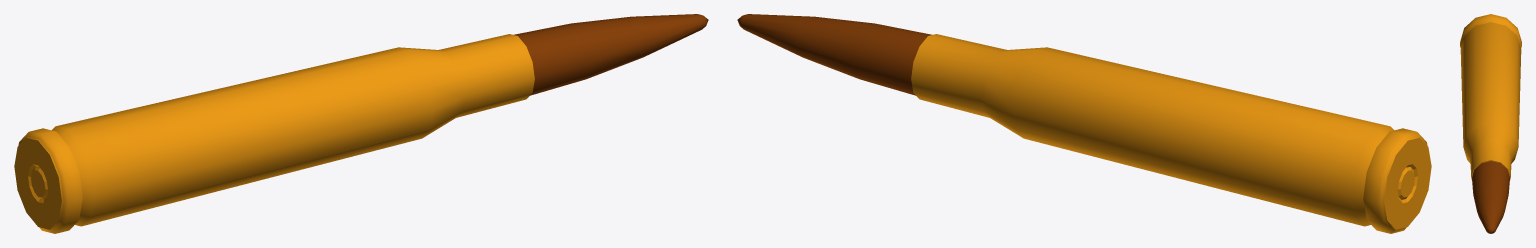
File: Bala.fbx
3 views of the same model, side by side, from view 1: azimuth 30°, elevation 25°; view 2: azimuth 150°, elevation 25°; view 3: azimuth 270°, elevation 25° (orthographic). The views are drawn at different scales.
Parts seen in each view (by area): view 1: Sphere001; view 2: Sphere001; view 3: Sphere001.
Part boxes in pixels (<box>): Sphere001: <box>14,14,708,233</box>; Sphere001: <box>737,14,1431,233</box>; Sphere001: <box>1460,14,1521,233</box>.
Size of the model in its own units: 517 by 70.56 by 70.56.
